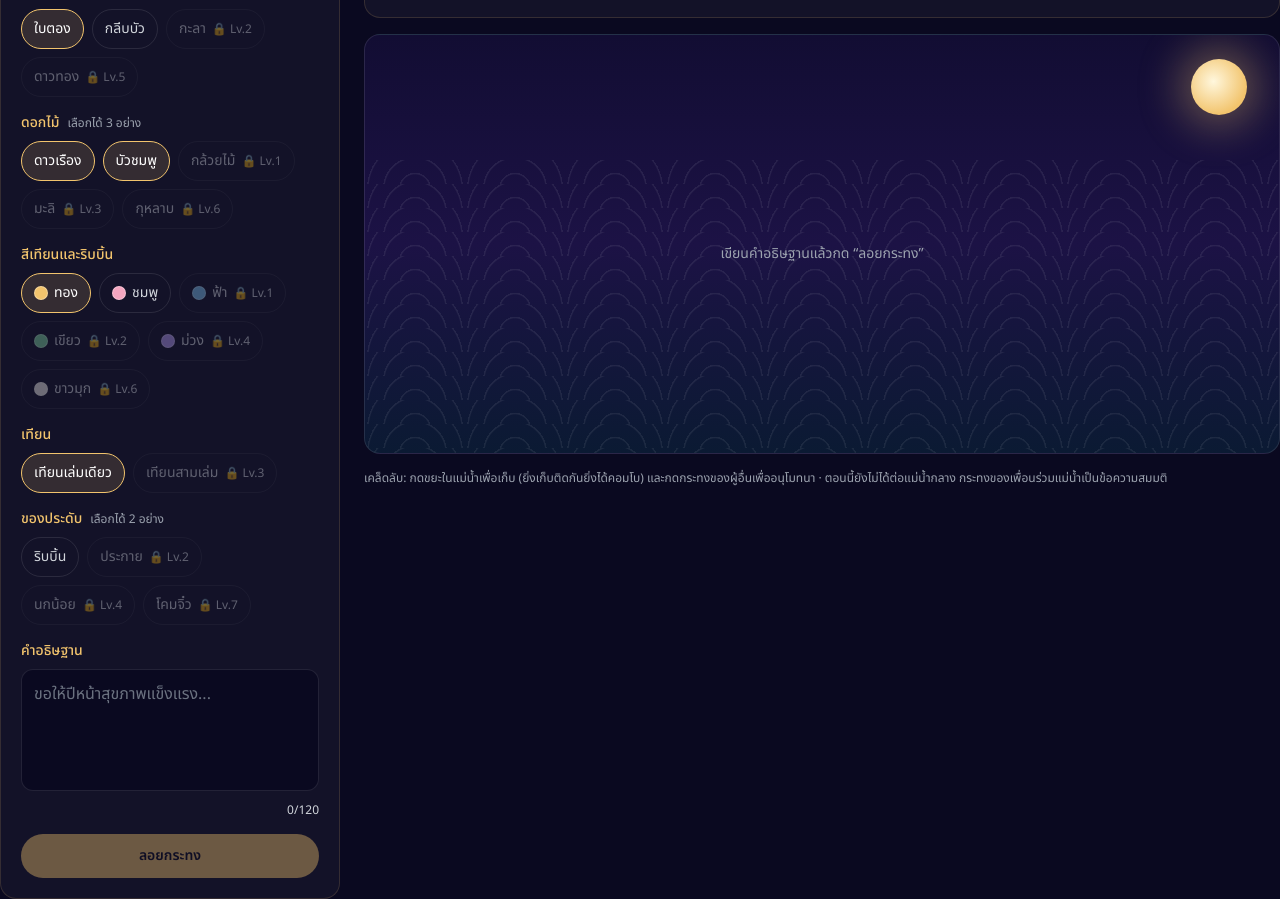
Test case: RiverFloat › ปุ่มลอยกระทงปิดอยู่จนกว่าจะพิมพ์คำอธิษฐาน
The image size is (1280, 899).
(page scrolled)
Expected: the button "ลอยกระทง" is disabled, x1=21 y1=834 x2=319 y2=878
Type "ขอให้สบายดี" into the text box labelled "คำอธิษฐาน" at [170, 730], box x1=21 y1=669 x2=319 y2=791
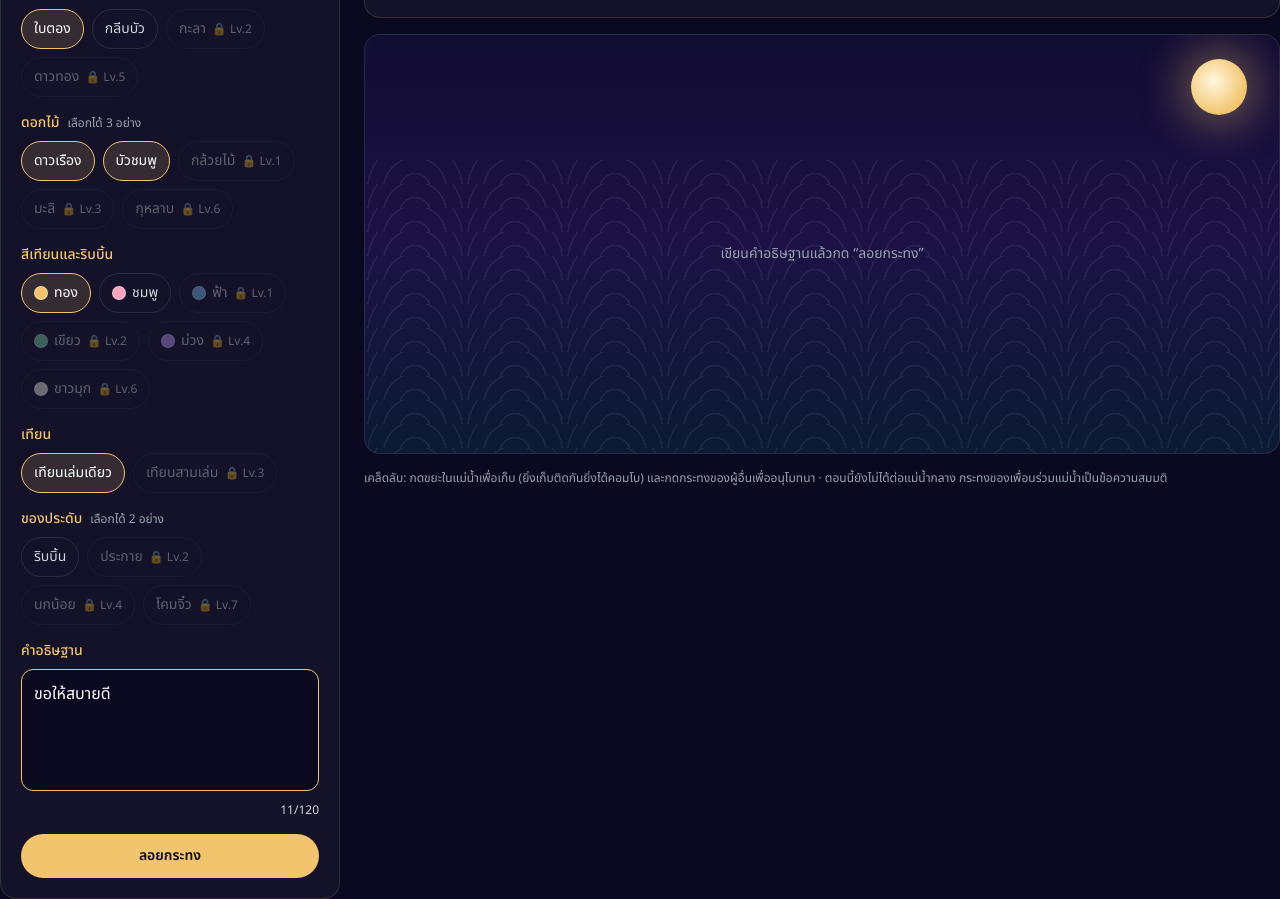
Expected: the button "ลอยกระทง" is enabled, x1=21 y1=834 x2=319 y2=878
